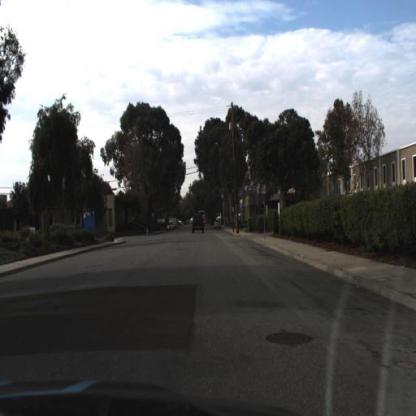car: (191, 213, 207, 236)
